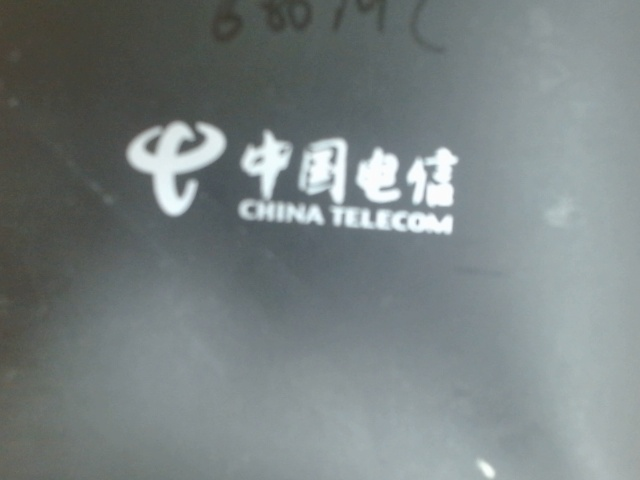AB_ChinaTelecom: (118, 108, 466, 251)
